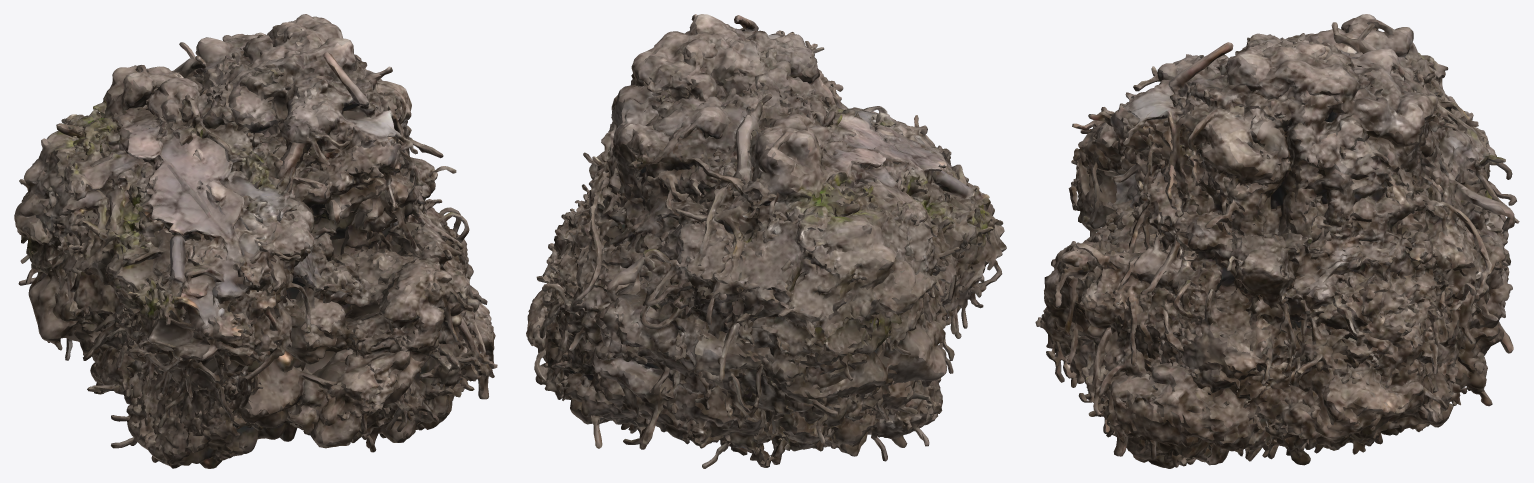
The model's file is macro-soil-v7.glb.
The picture shows the model from 3 angles, left to right: view 1: azimuth 30°, elevation 25°; view 2: azimuth 150°, elevation 25°; view 3: azimuth 270°, elevation 25°; orthographic projection. The views are drawn at different scales.
Visible parts, largest first — view 1: geometry_0; view 2: geometry_0; view 3: geometry_0.
Part boxes in pixels (<box>): geometry_0: <box>14,14,497,468</box>; geometry_0: <box>526,14,1006,468</box>; geometry_0: <box>1035,14,1519,468</box>.
Bounding box in the file's own units: 0.25 × 0.2273 × 0.2492.
1 material, 1 textured.
